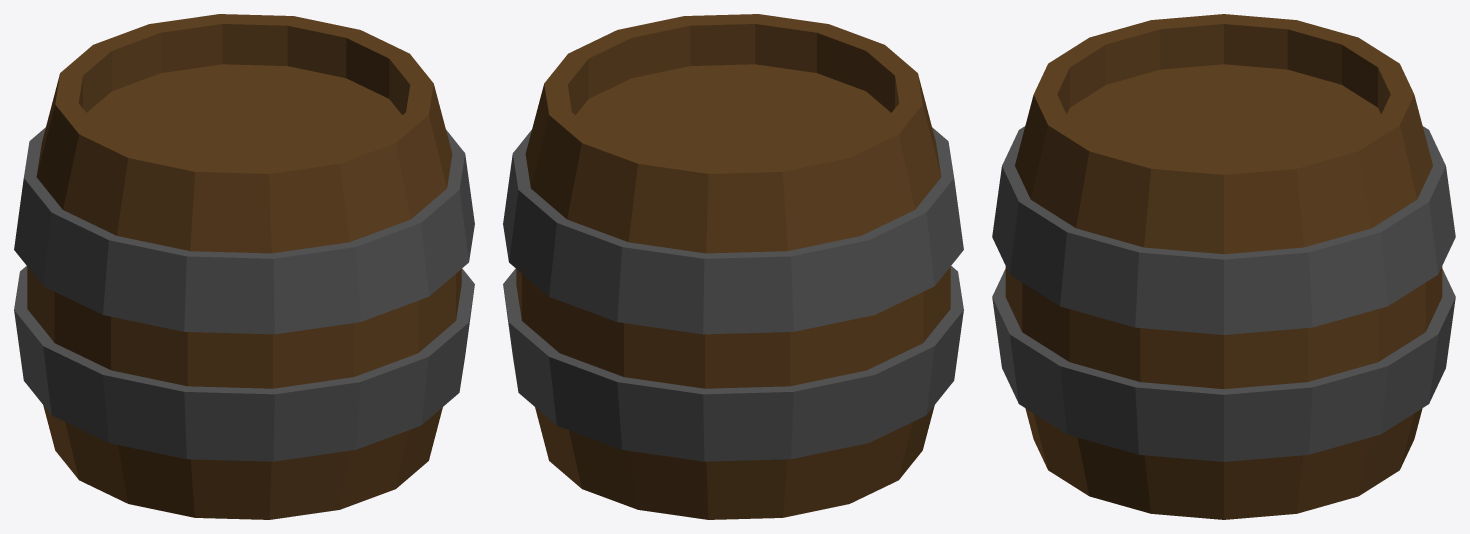
The model's file is barrel_pristine.glb.
3 renders of one model, left to right at view 1: azimuth 30°, elevation 25°; view 2: azimuth 150°, elevation 25°; view 3: azimuth 270°, elevation 25°, orthographic.
Visible parts, largest first — view 1: Cylinder.001; view 2: Cylinder.001; view 3: Cylinder.001.
Part boxes in pixels (bbox=[...]): Cylinder.001: bbox=[14, 14, 474, 519]; Cylinder.001: bbox=[503, 14, 963, 519]; Cylinder.001: bbox=[992, 14, 1455, 519].
Bounding box in the file's own units: 2.44 × 2 × 2.44.
